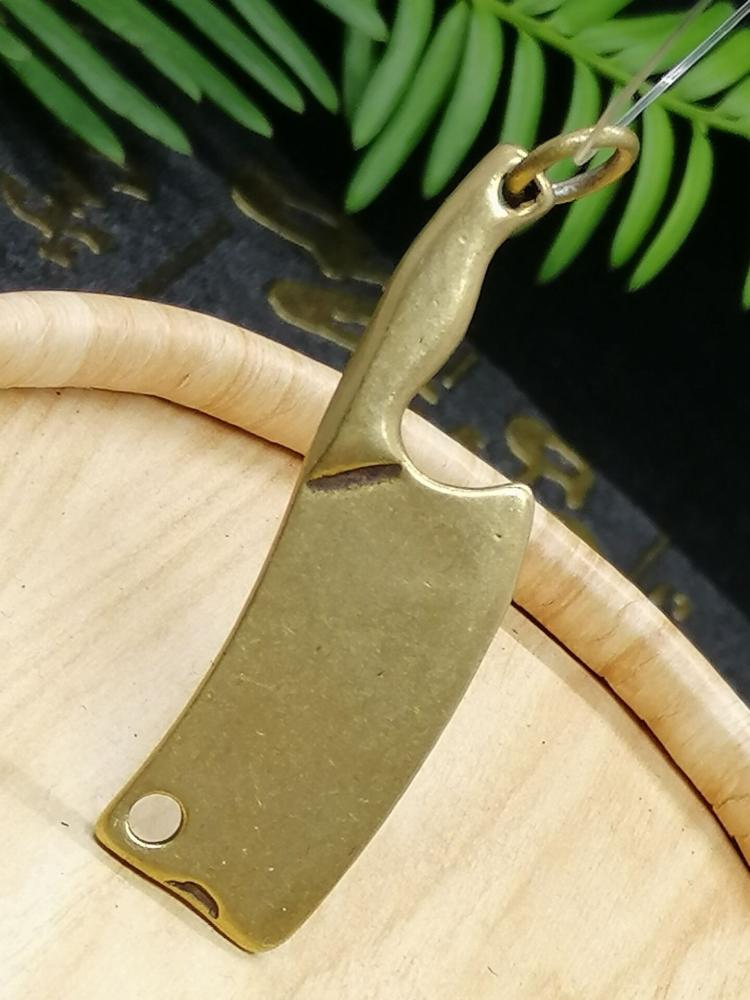knief: (202, 104, 624, 948)
